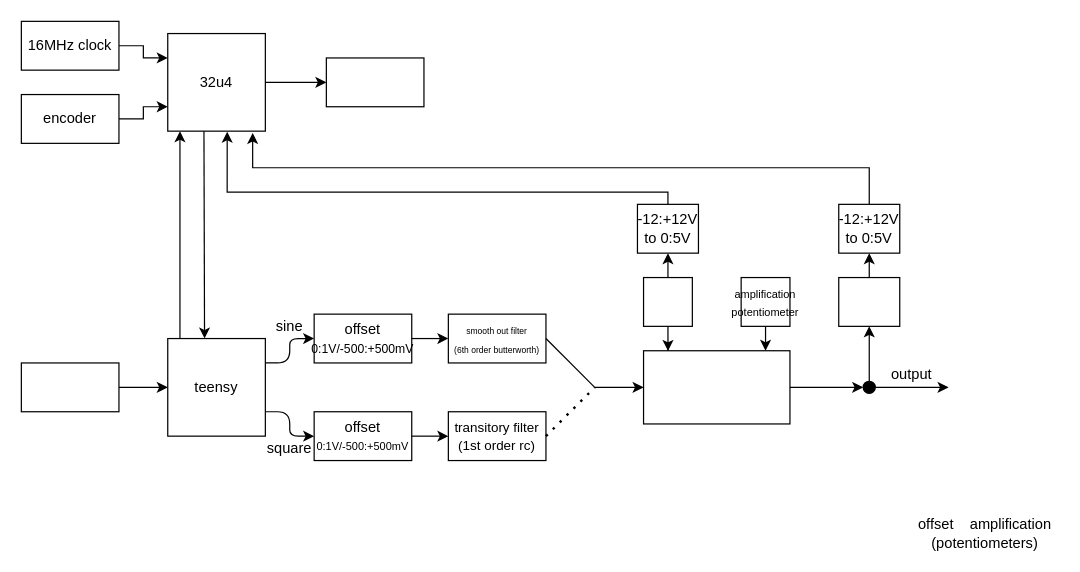
Some shapes in this 1080 by 572 pixel diagram are drawn without their labels. The box of each missing label's shape, as (x1, y1, x2, y2) in pixels:
amplification + offset: (642, 350, 790, 424)
lcd display: (325, 57, 424, 107)
offset potentiometer: (642, 276, 692, 326)
PSU: (20, 362, 119, 412)
true-rms-to-dc: (838, 276, 900, 326)
